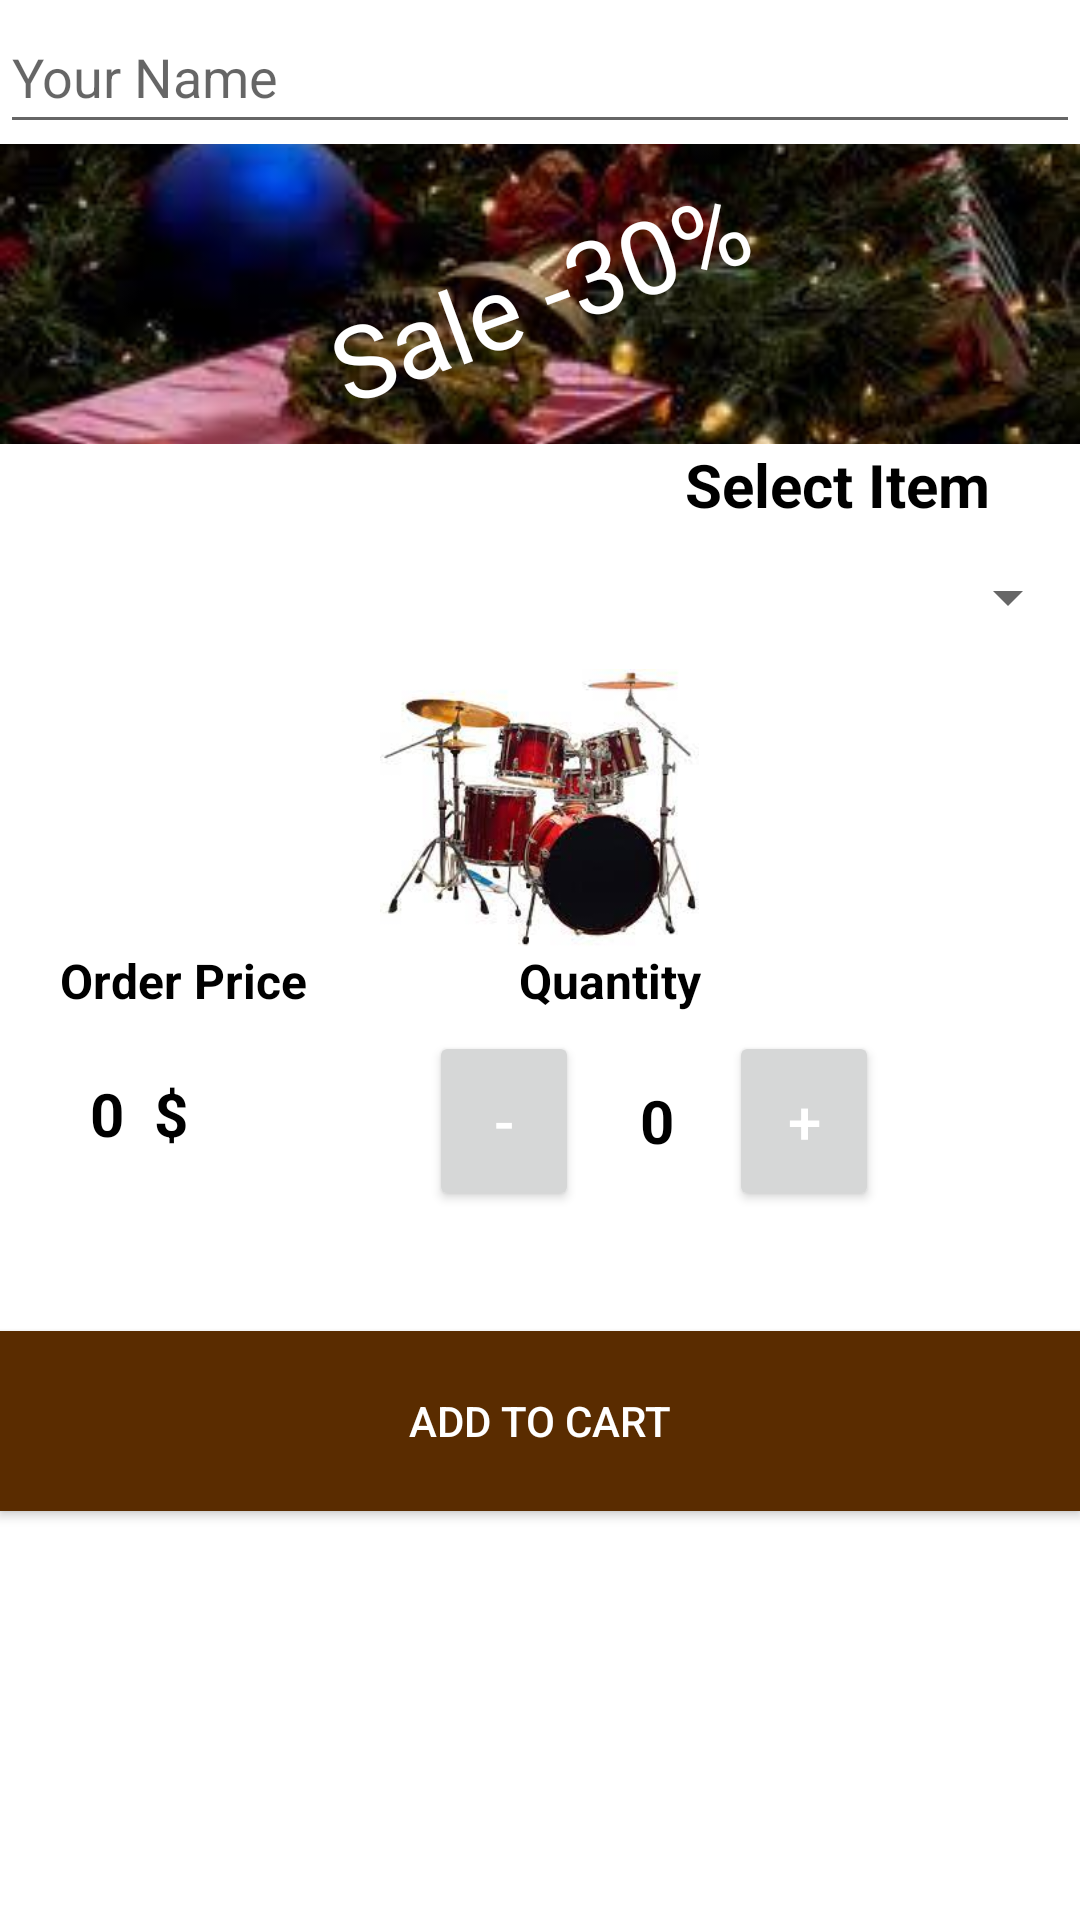

Icons on this 1080 x 1920 Android screen, each with the point to tap as point (x, y):
drums: point (540, 808)
